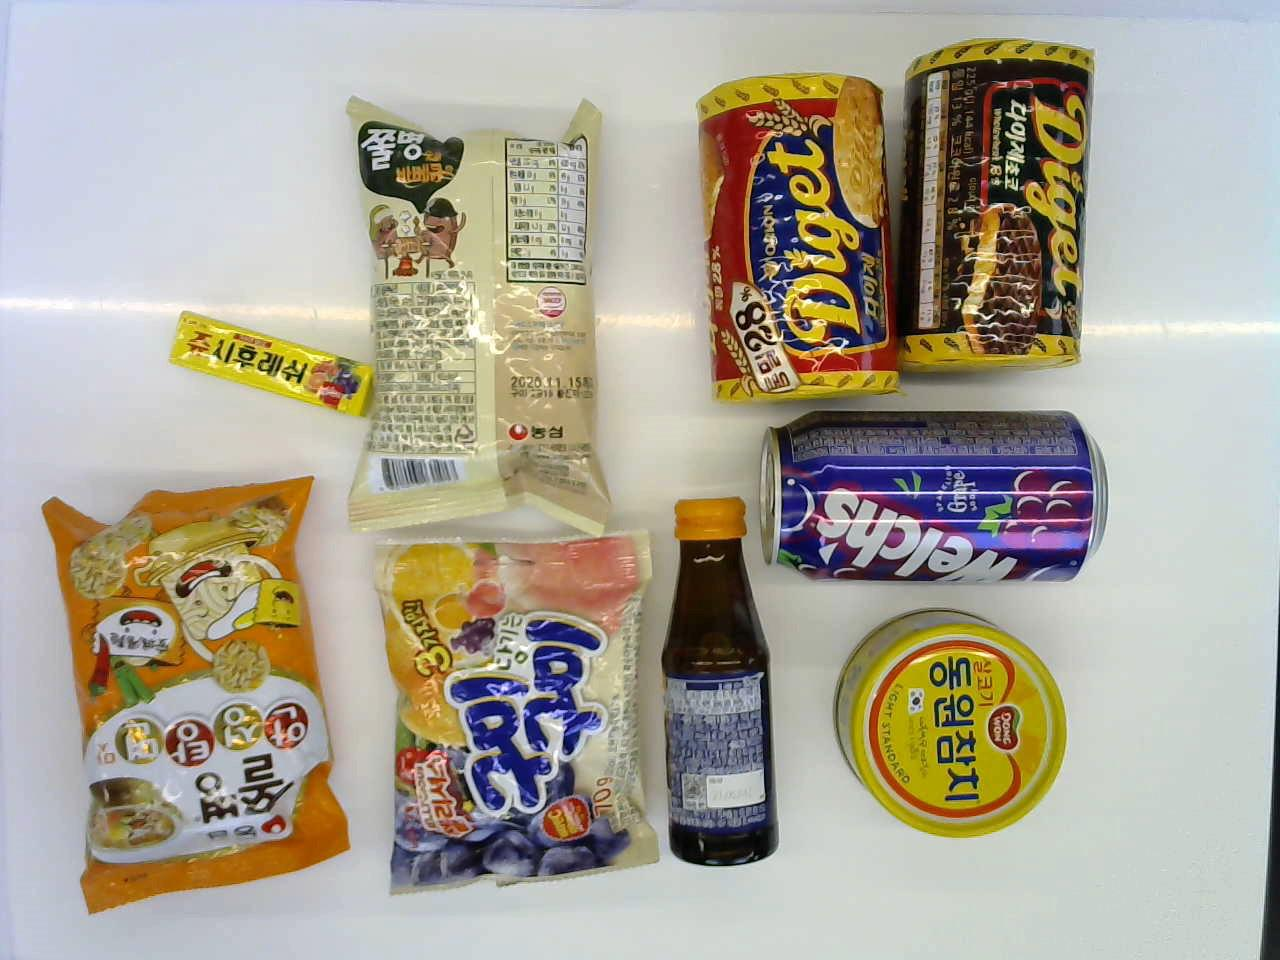diget_choco: (902, 38, 1110, 359)
diget_ori: (693, 76, 901, 397)
gumi_gumi: (378, 528, 651, 899)
jjolbyung_noodle: (44, 484, 345, 908)
jjolbyung_ori: (353, 88, 620, 531)
juicyfresh: (158, 302, 372, 415)
tuna: (835, 608, 1068, 836)
vita500: (658, 486, 777, 885)
welchs: (758, 405, 1105, 585)
